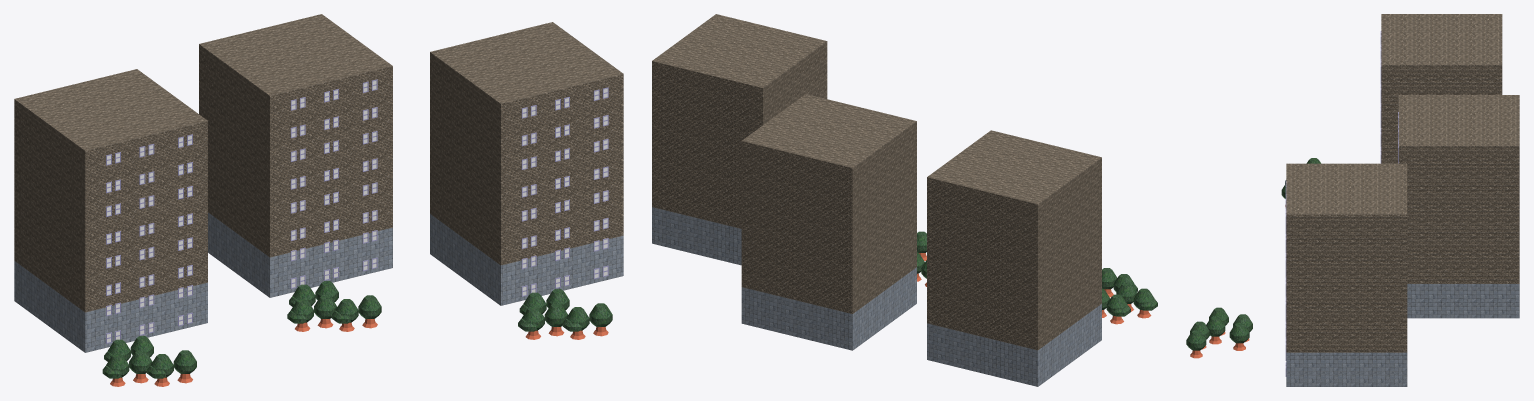
File: buildings.obj
3 views of the same model, side by side, from view 1: azimuth 30°, elevation 25°; view 2: azimuth 150°, elevation 25°; view 3: azimuth 270°, elevation 25° (orthographic). The views are drawn at different scales.
Visible parts, largest first — view 1: mergedBlocks; view 2: mergedBlocks; view 3: mergedBlocks.
Boxes of the visible parts, x1,y1,x2,y2 form: mergedBlocks: (14,14,623,386); mergedBlocks: (652,14,1157,386); mergedBlocks: (1186,14,1519,386).
Bounding box in the file's own units: 28.6 × 11 × 19.28.
Materials: 6 (3 with a texture image).
